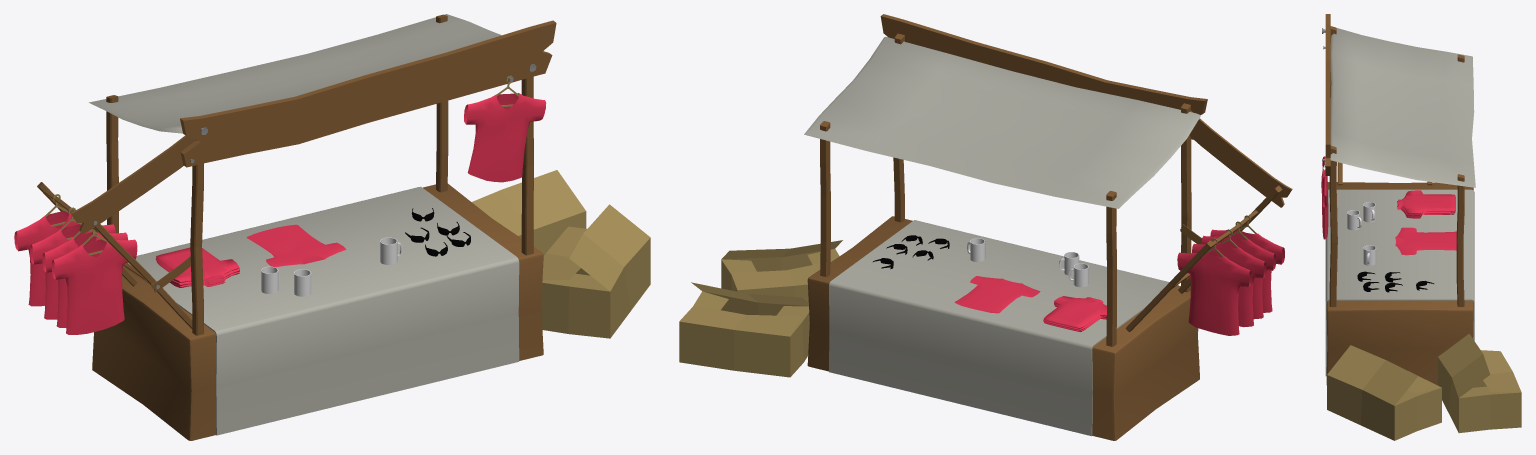
The model's file is Tourist Merch Stall.fbx.
3 views of the same model, side by side, from view 1: azimuth 30°, elevation 25°; view 2: azimuth 150°, elevation 25°; view 3: azimuth 270°, elevation 25° (orthographic). The views are drawn at different scales.
Visible parts, largest first — view 1: stallBaseCloth_geo, stallBanner_geo, stallBase_geo, stallCanvas_geo, cardboardBox_1_geo, stallPoles_geo, tshirtB_1_geo, tShirt_Ares_geo, cardboardBox_2_geo, stallSideBanner_geo, flatTshirt_4_geo, stallSideFrame_geo (+4 smaller); view 2: stallBaseCloth_geo, stallCanvas_geo, stallBase_geo, cardboardBox_2_geo, stallBanner_geo, stallPoles_geo, cardboardBox_1_geo, tshirtB_4_geo, stallSideBanner_geo, flatTshirt_4_geo, stallSideFrame_geo, tshirtB_3_geo (+3 smaller); view 3: stallCanvas_geo, stallBaseCloth_geo, stallBase_geo, cardboardBox_1_geo, cardboardBox_2_geo, stallPoles_geo, flatTshirt_4_geo, flatTshirt_1_geo, stallBanner_geo, tShirt_Ares_geo, mug_geo.001, mug_geo.002 (+1 smaller).
Boxes of the visible parts, x1,y1,x2,y2 form: stallBaseCloth_geo: (127,186,519,435); stallBanner_geo: (180,20,556,167); stallBase_geo: (92,183,543,440); stallCanvas_geo: (89,14,501,133); cardboardBox_1_geo: (541,204,650,338); stallPoles_geo: (106,14,533,335); tshirtB_1_geo: (51,239,137,334); tShirt_Ares_geo: (464,93,546,182); cardboardBox_2_geo: (472,170,586,255); stallSideBanner_geo: (70,135,195,234); flatTshirt_4_geo: (246,224,346,267); stallSideFrame_geo: (37,182,192,329); stallBaseCloth_geo: (829,220,1178,436); stallCanvas_geo: (804,37,1200,208); stallBase_geo: (807,216,1199,440); cardboardBox_2_geo: (679,282,809,377); stallBanner_geo: (880,14,1207,139); stallPoles_geo: (820,33,1191,346); cardboardBox_1_geo: (721,240,842,302); tshirtB_4_geo: (1177,252,1251,335); stallSideBanner_geo: (1189,111,1292,207); flatTshirt_4_geo: (954,276,1040,313); stallSideFrame_geo: (1125,185,1282,331); tshirtB_3_geo: (1192,243,1266,327); stallCanvas_geo: (1330,28,1475,187); stallBaseCloth_geo: (1325,189,1474,376); stallBase_geo: (1326,182,1473,385); cardboardBox_1_geo: (1327,345,1441,440); cardboardBox_2_geo: (1438,333,1521,433); stallPoles_geo: (1329,26,1464,306); flatTshirt_4_geo: (1395,227,1456,255); flatTshirt_1_geo: (1398,190,1455,215); stallBanner_geo: (1325,14,1330,175); tShirt_Ares_geo: (1321,156,1328,239); mug_geo.001: (1347,210,1361,230); mug_geo.002: (1363,245,1376,265).
Size of the model in its own units: 6.44 by 3.26 by 2.41.
